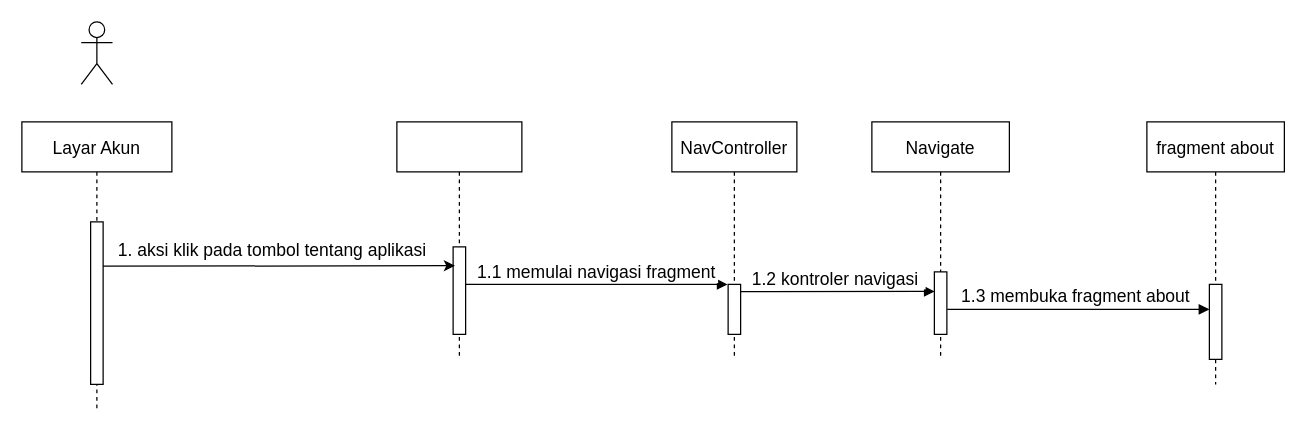
Image size: 1306x431. Some labels were removed from this diagram. Here are the shapes that lost their labels. From the top down, the centre of each, then its label:
(96,52): :User
(459,240): Navigation
